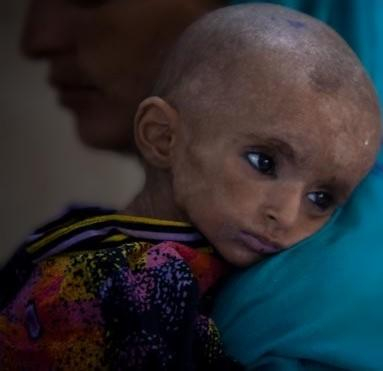Stunting: (159, 19, 383, 251)
